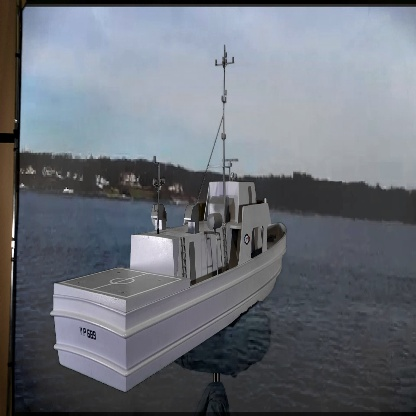YP689: (51, 47, 288, 393)
